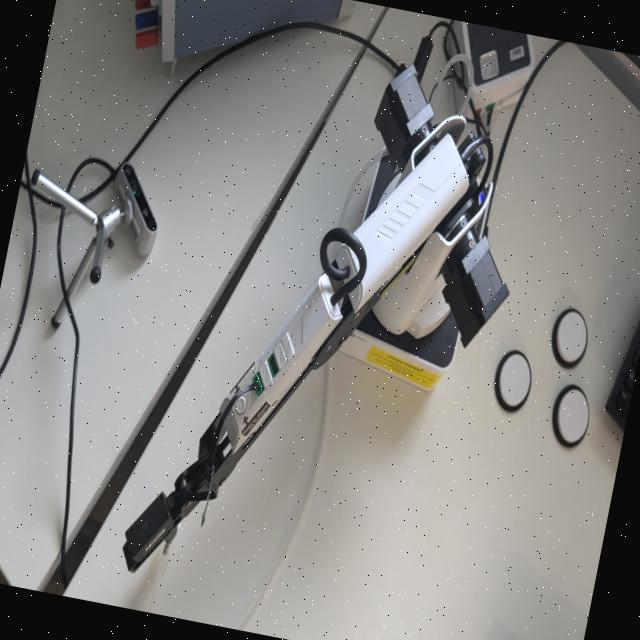Robot-end-effector-HF8z: (114, 480, 186, 590)
